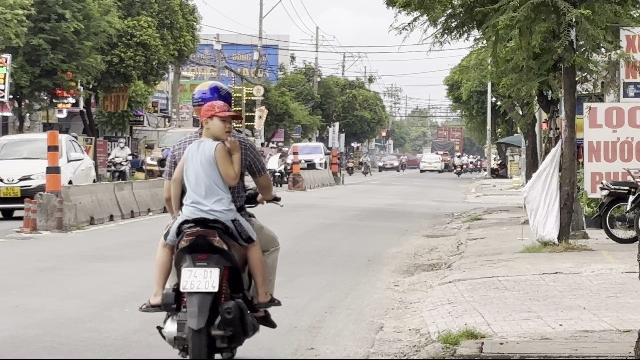helmet: (188, 80, 236, 112)
licenseplate: (182, 267, 218, 291)
motorcyclist: (141, 78, 285, 358)
nohelmet: (197, 100, 239, 144)
